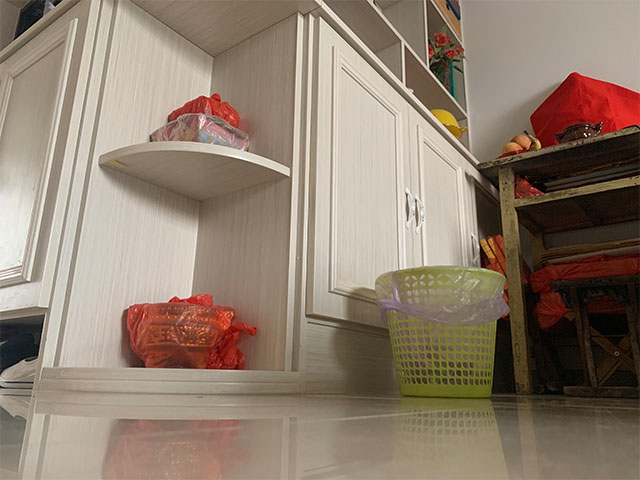cabinet: (1, 2, 304, 397), (306, 11, 486, 396)
stool: (547, 276, 640, 399)
table: (475, 125, 640, 395)
trashcan: (374, 265, 509, 399)
